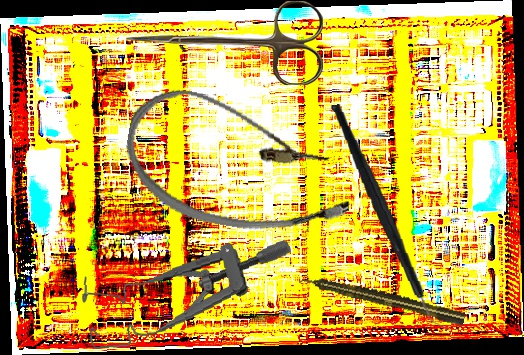Cannula: (115, 81, 365, 247)
Chopper: (330, 97, 453, 338)
Handpiece: (297, 270, 467, 328)
Iris Scissors: (126, 1, 323, 85)
Speculum: (76, 236, 300, 352)
